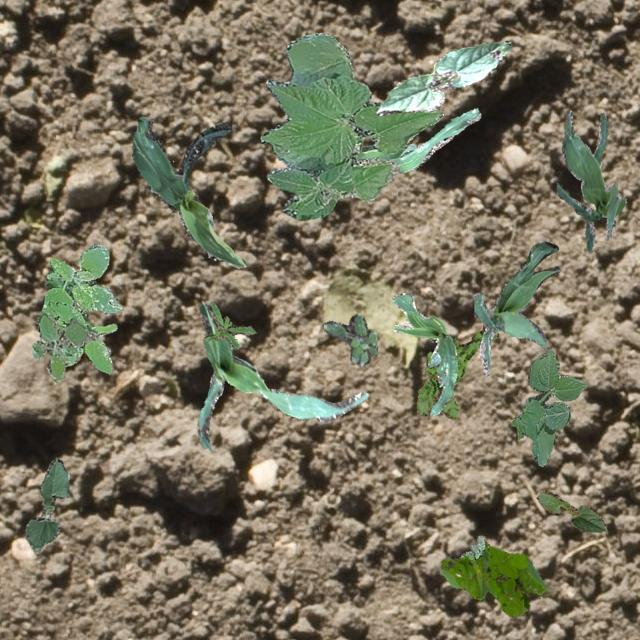crop: (258, 32, 442, 218), (196, 300, 366, 450), (130, 115, 246, 268), (474, 242, 558, 374), (556, 108, 626, 252), (374, 40, 510, 114), (354, 108, 479, 172), (392, 292, 456, 416), (24, 458, 68, 550), (536, 489, 606, 532)
weed: (41, 242, 122, 372), (511, 348, 586, 466), (416, 324, 498, 418), (439, 546, 548, 616), (32, 312, 96, 382), (322, 314, 378, 366), (203, 301, 254, 348), (458, 534, 484, 560)
